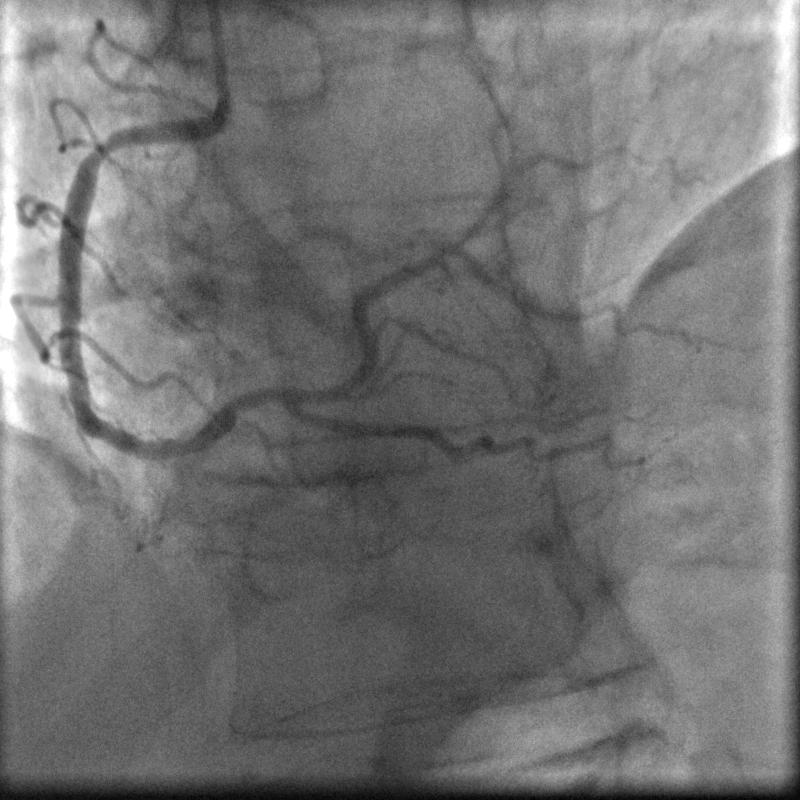Stenosis: (75, 127, 137, 155)
